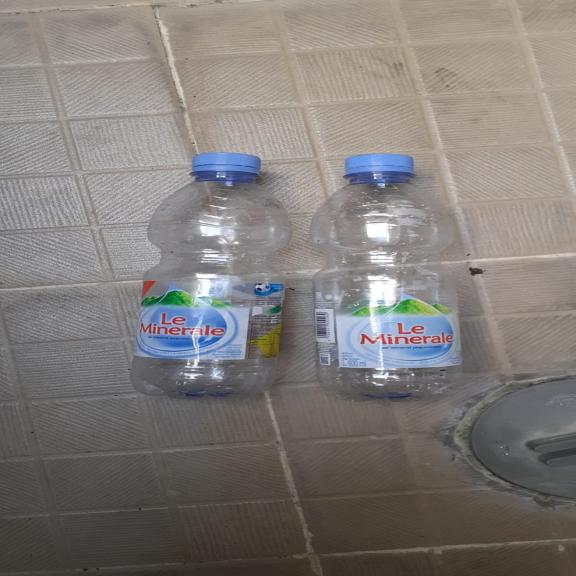Plastik: (311, 153, 468, 403), (131, 150, 282, 400)
